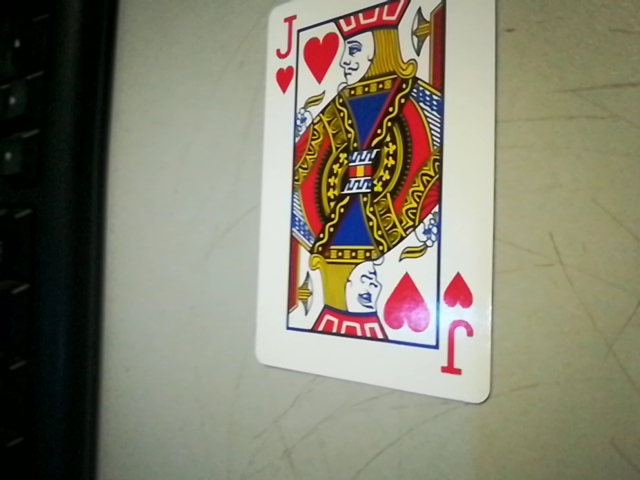hx j: (435, 270, 482, 385)
